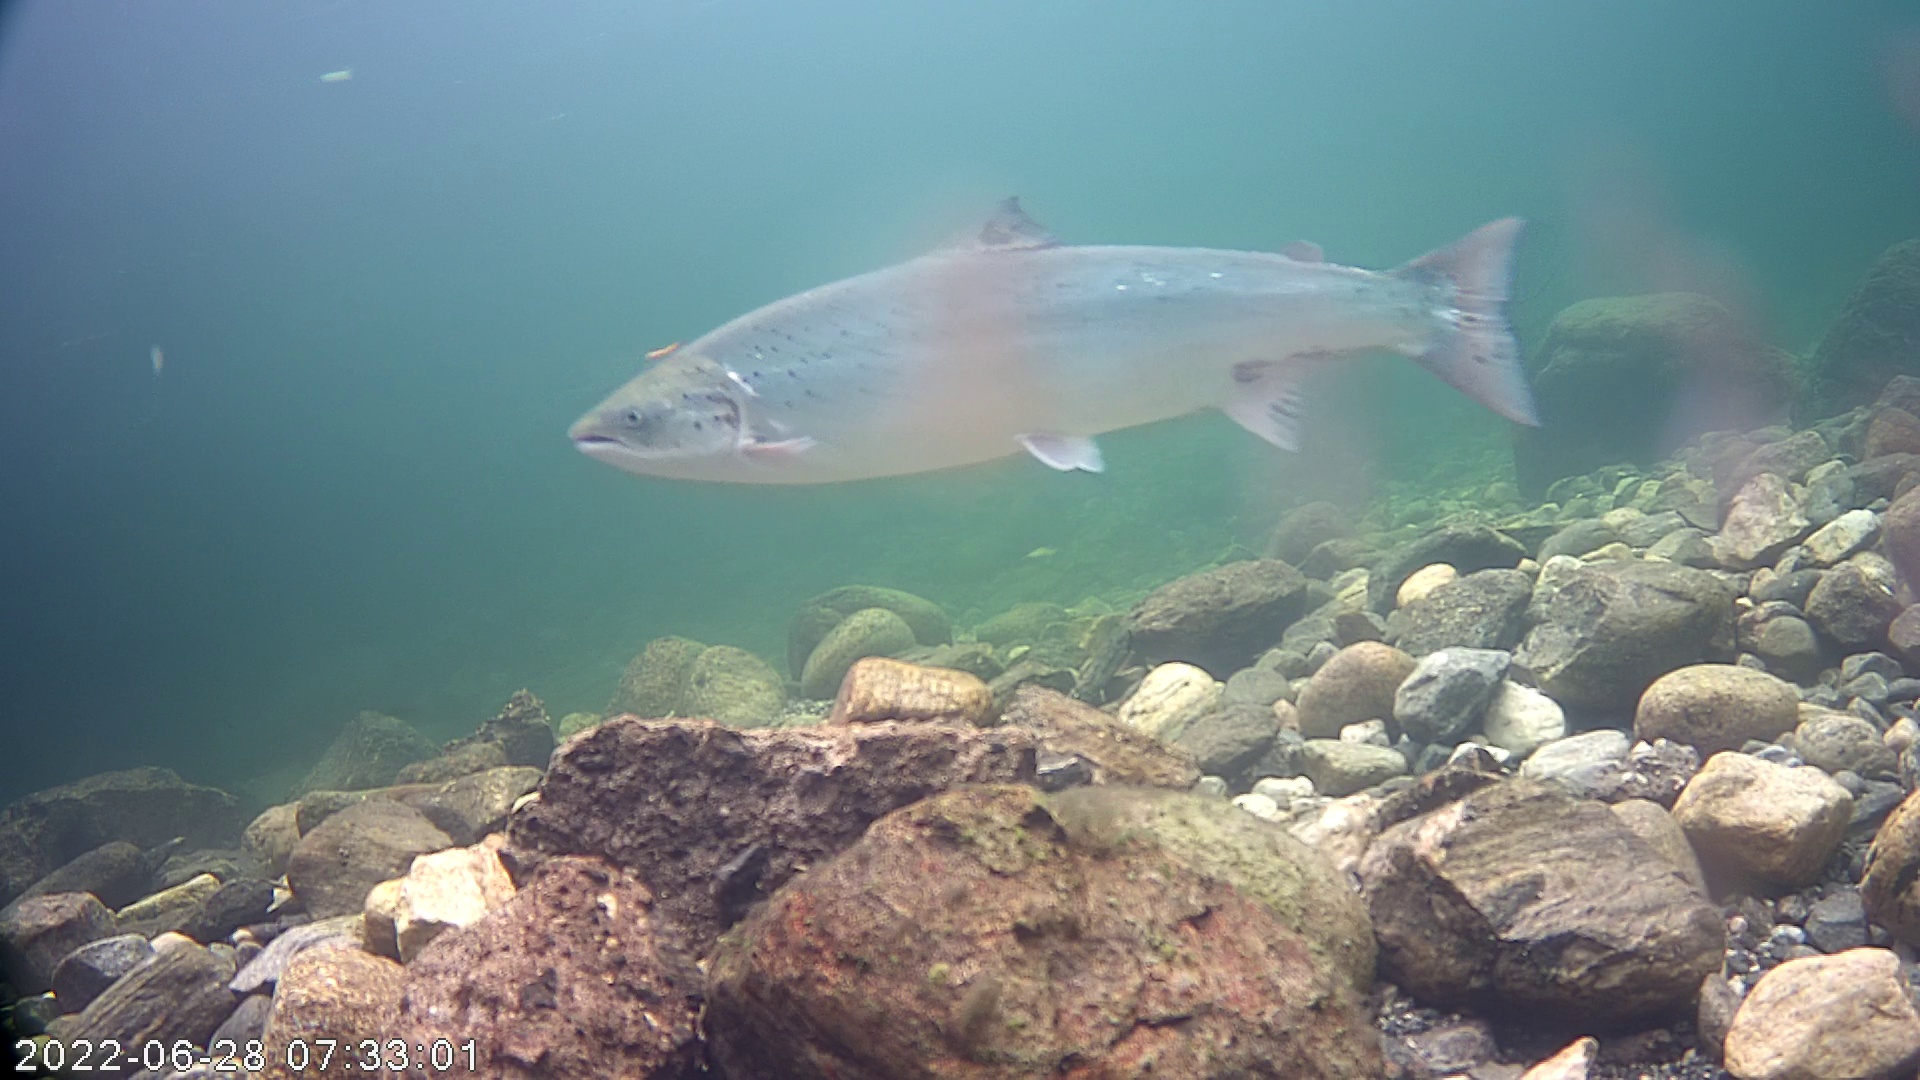salmon: (563, 124, 1575, 553)
